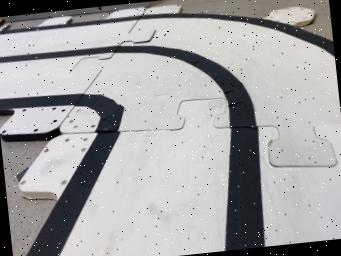street: (0, 13, 341, 256), (0, 13, 341, 256), (0, 13, 341, 256), (0, 13, 341, 256), (0, 13, 341, 256), (0, 13, 341, 256)
